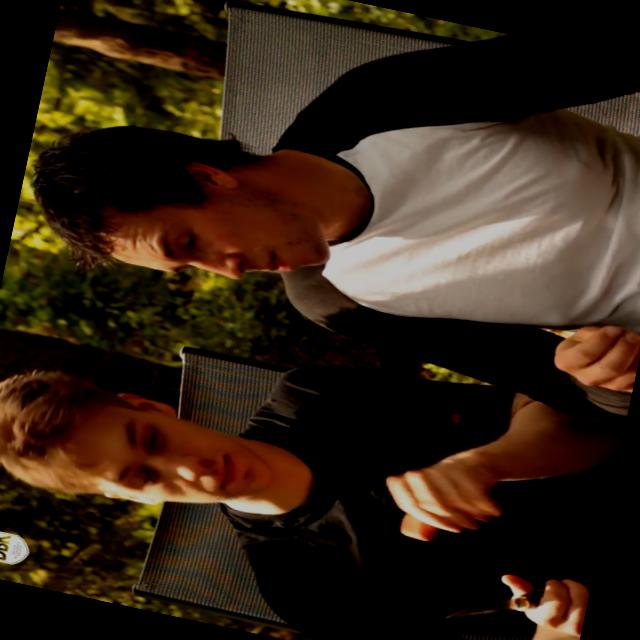knife: (424, 556, 590, 639)
